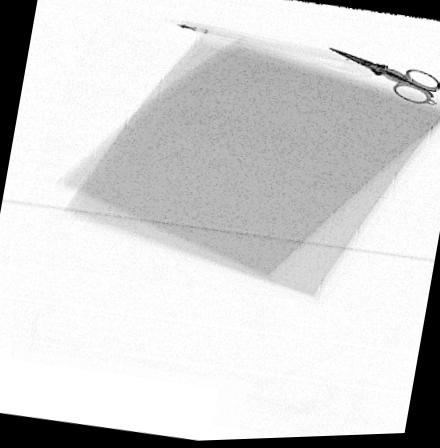Scissors: (326, 49, 440, 109)
